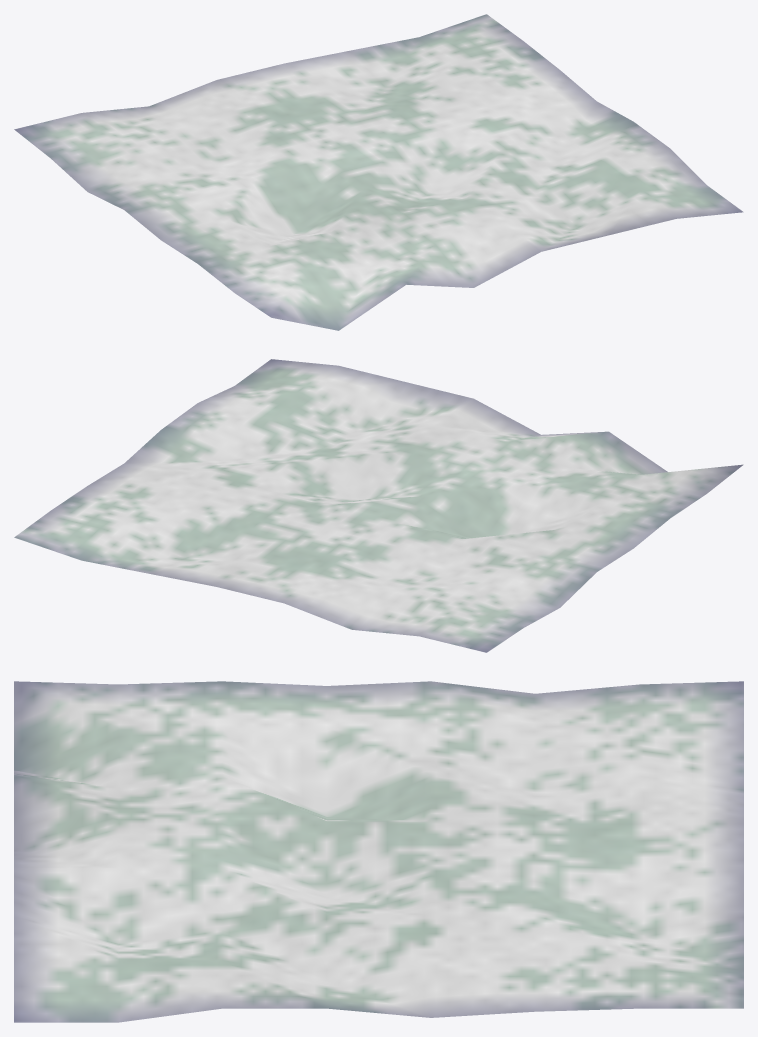
File: Rice_Cooked.fbx
The picture shows the model from 3 angles, top to bottom: view 1: azimuth 30°, elevation 25°; view 2: azimuth 150°, elevation 25°; view 3: azimuth 270°, elevation 25°; orthographic projection. The views are drawn at different scales.
Visible parts, largest first — view 1: Rice_Cooked; view 2: Rice_Cooked; view 3: Rice_Cooked.
Part boxes in pixels (<box>): Rice_Cooked: <box>14,14,743,330</box>; Rice_Cooked: <box>14,359,743,652</box>; Rice_Cooked: <box>14,681,743,1022</box>.
Bounding box in the file's own units: 82.51 × 4.94 × 77.77.
